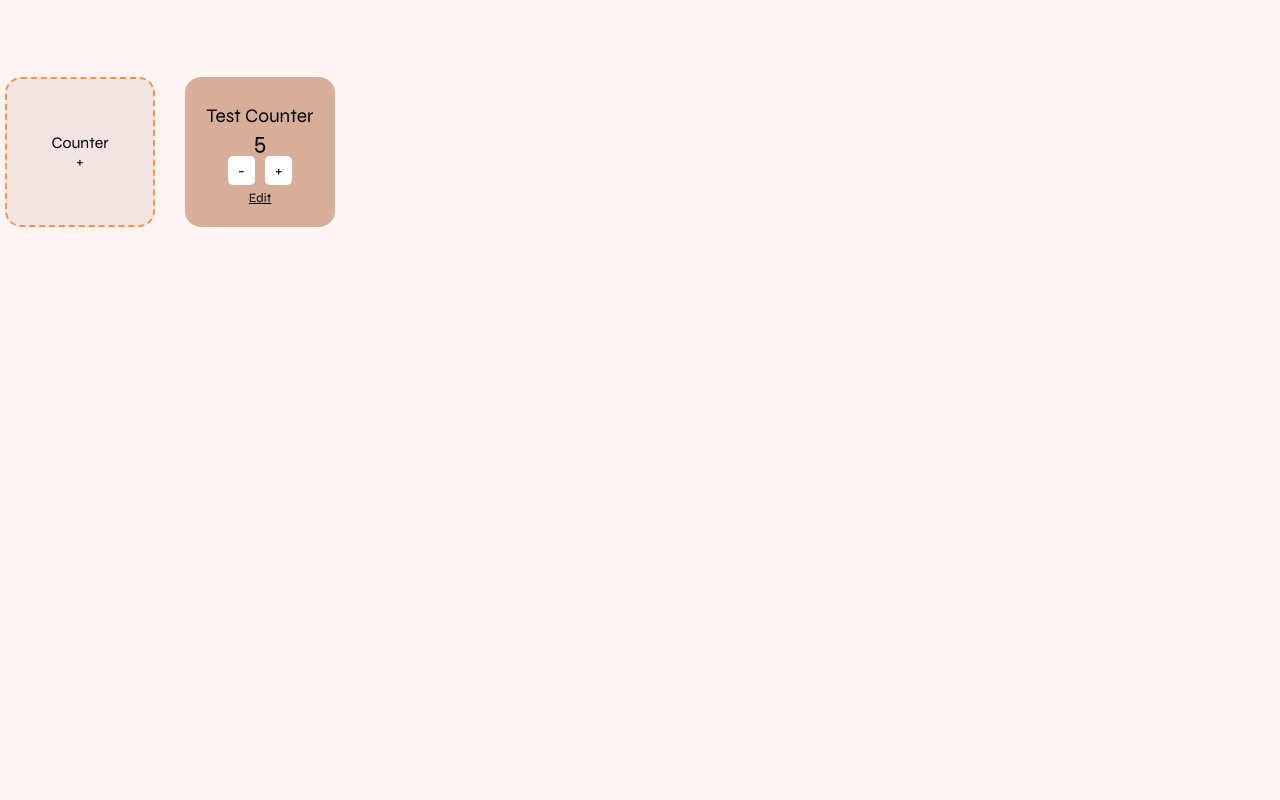
Test: Counter component › deletes counter on delete button click
# Wait for "Edit" to be rendered based on fetched data
Click the text "Edit".
click(260, 198)  # box [249, 190, 271, 206]
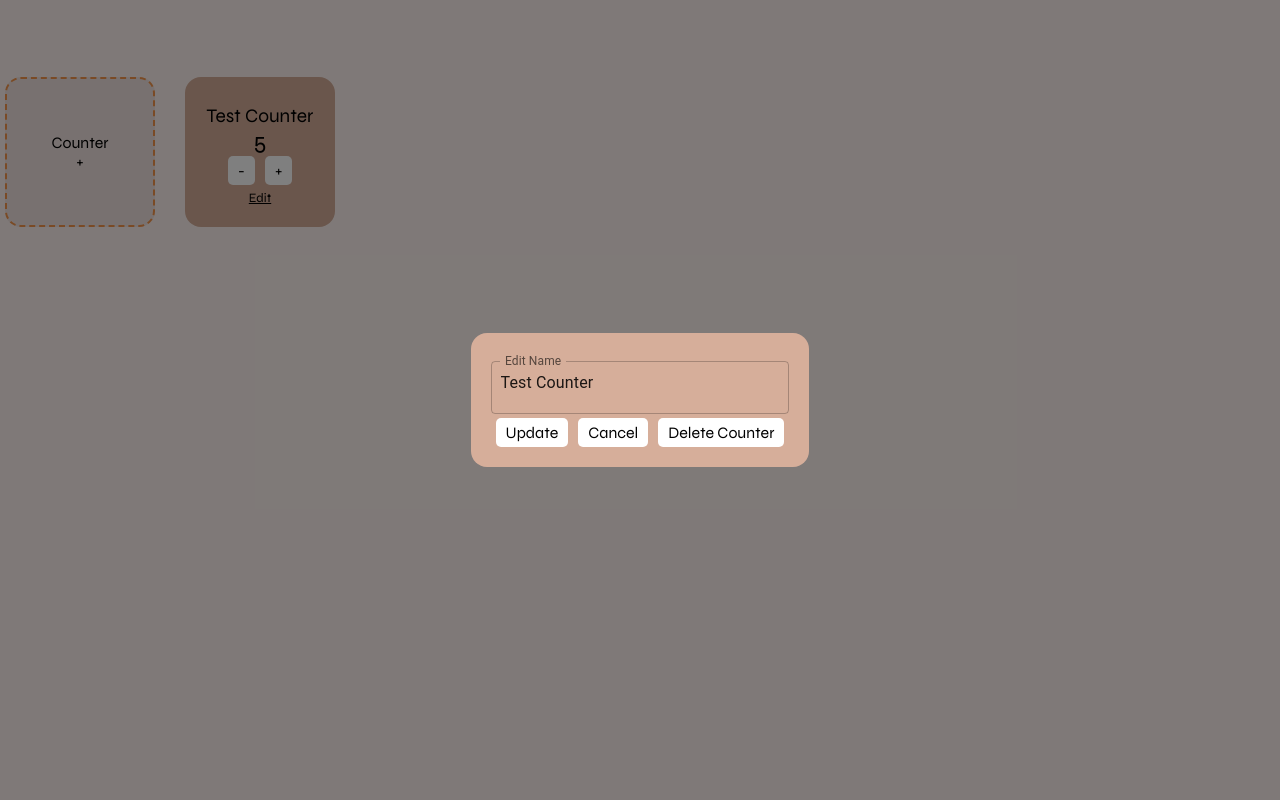
# Once "Edit" is clicked, "Delete Counter" should be visible
Click the button "Delete Counter".
click(721, 432)  # box [658, 418, 784, 447]
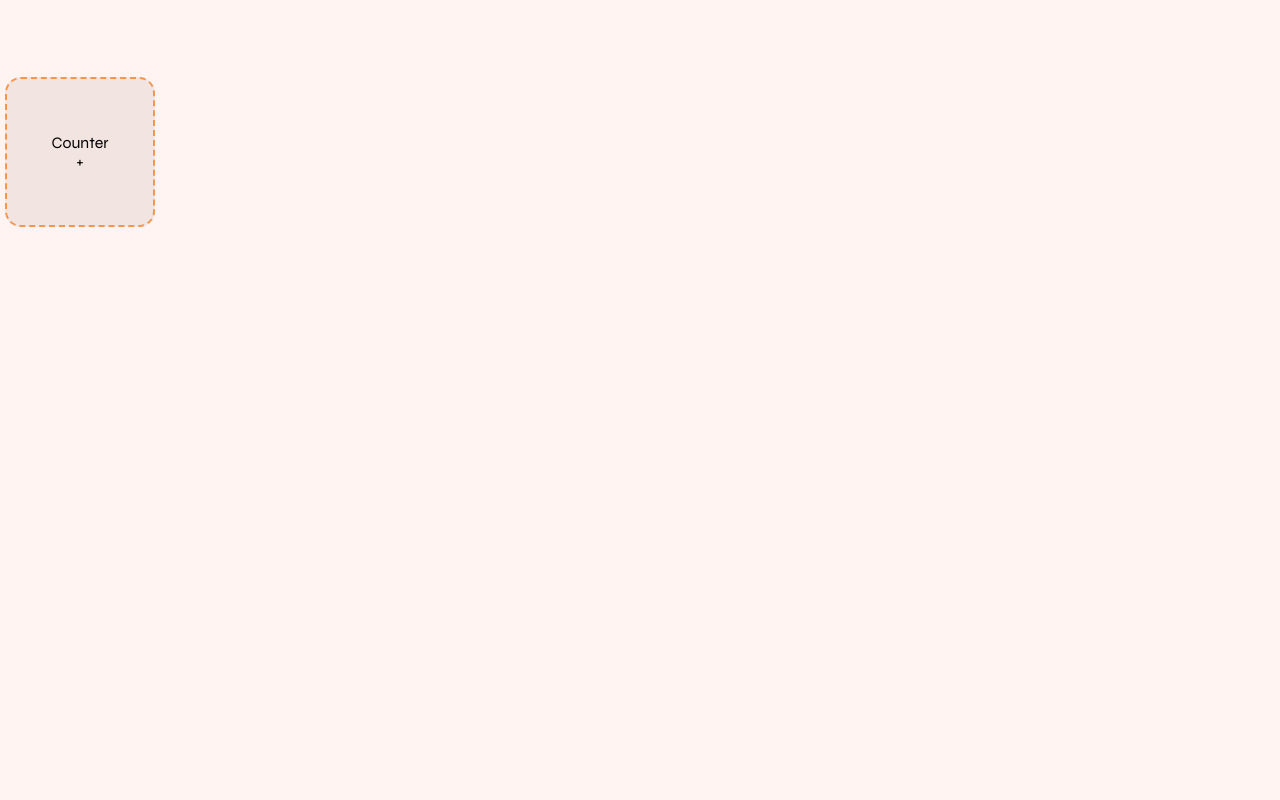
Now the text "Test Counter" is gone
